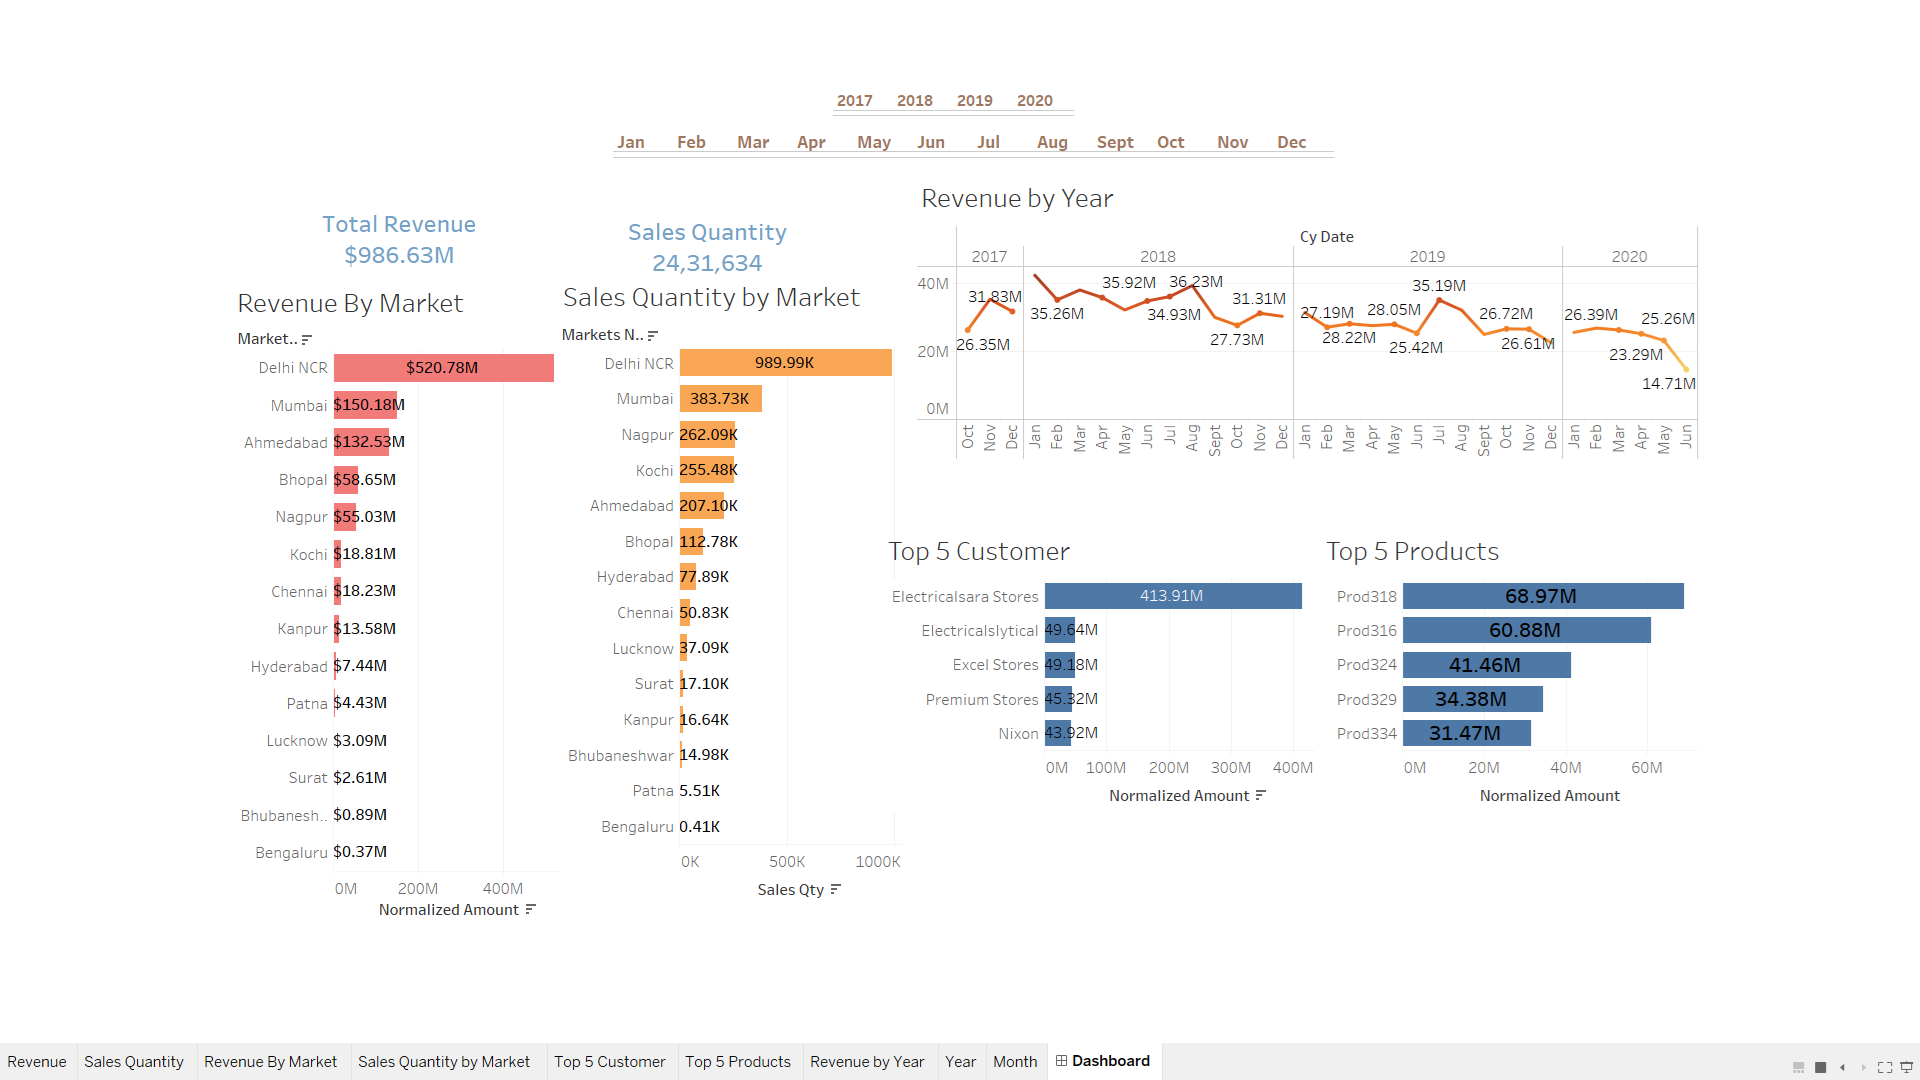

What the dashboard file says about the page in this screenshot:
{"tool":"tableau","page":{"name":"Dashboard ","canvas":[1500,900],"ordinal":0},"visuals":[{"type":"worksheet","title":"Year","mark":"Automatic","cols":["cy_date"],"box":[623,4,288,93]},{"type":"worksheet","title":"Month","mark":"Automatic","cols":["cy_date"],"box":[403,10,847,128]},{"type":"worksheet","title":"Revenue by Year","mark":"Automatic","rows":["Calculation_1862519981186498560"],"cols":["cy_date","cy_date"],"box":[707,105,781,284]},{"type":"worksheet","title":"Revenue","mark":"Automatic","box":[100,121,500,284]},{"type":"worksheet","title":"Sales Quantity","mark":"Automatic","box":[408,129,500,284]},{"type":"worksheet","title":"Sales Quantity by Market","mark":"Automatic","rows":["markets_name"],"cols":["sales_qty"],"box":[349,204,344,632]},{"type":"worksheet","title":"Revenue By Market","mark":"Automatic","rows":["markets_name"],"cols":["Calculation_1862519981186498560"],"box":[23,210,332,639]},{"type":"worksheet","title":"Top 5 Customer","mark":"Automatic","rows":["custmer_name"],"cols":["Calculation_1862519981186498560"],"box":[674,458,431,284]},{"type":"worksheet","title":"Top 5 Products","mark":"Automatic","rows":["product_code"],"cols":["Calculation_1862519981186498560"],"box":[1112,458,376,284]}]}

Visuals, with their boxes on the page's 1500x900 design canvas (x1, y1, x2, y2). These are canvas units, not pixel positions in the 1920x1080 screenshot, which may show the page scaled, cropped or inside an application window:
"Year" worksheet: Rect(623, 4, 911, 97)
"Month" worksheet: Rect(403, 10, 1250, 138)
"Revenue by Year" worksheet: Rect(707, 105, 1488, 389)
"Revenue" worksheet: Rect(100, 121, 600, 405)
"Sales Quantity" worksheet: Rect(408, 129, 908, 413)
"Sales Quantity by Market" worksheet: Rect(349, 204, 693, 836)
"Revenue By Market" worksheet: Rect(23, 210, 355, 849)
"Top 5 Customer" worksheet: Rect(674, 458, 1105, 742)
"Top 5 Products" worksheet: Rect(1112, 458, 1488, 742)
